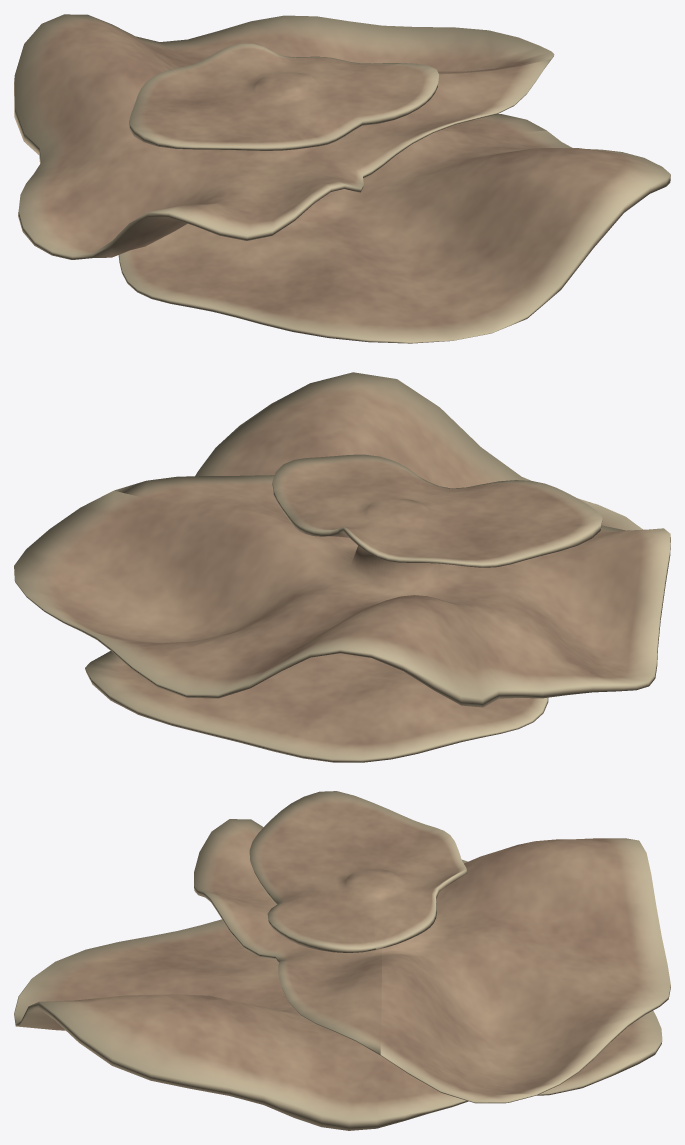
The model's file is plate_v6_lobed_lod1.glb.
3 renders of one model, top to bottom at view 1: azimuth 30°, elevation 25°; view 2: azimuth 150°, elevation 25°; view 3: azimuth 270°, elevation 25°, orthographic. The views are drawn at different scales.
Parts seen in each view (by area): view 1: plate_v6_folds_lobed_LOD1; view 2: plate_v6_folds_lobed_LOD1; view 3: plate_v6_folds_lobed_LOD1.
Boxes of the visible parts, x1,y1,x2,y2 form: plate_v6_folds_lobed_LOD1: [14, 14, 670, 343]; plate_v6_folds_lobed_LOD1: [14, 372, 670, 762]; plate_v6_folds_lobed_LOD1: [14, 791, 670, 1130].
Bounding box in the file's own units: 1.09 × 0.3297 × 1.13.
Materials: 1 (1 with a texture image).
